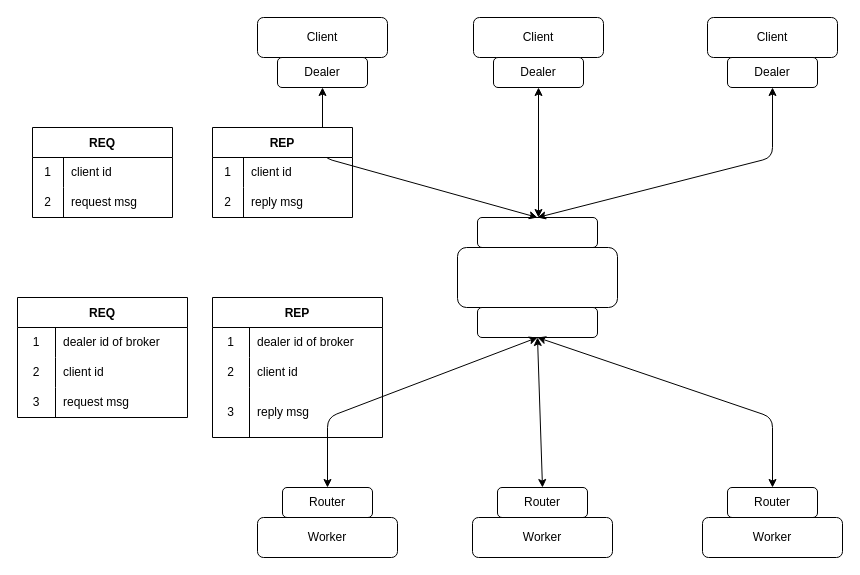
This 860x575 diagram has some shape labels left out. The centre of each missing label's shape, as x and y in pixels:
Dealer(bind): point (537, 322)
Router(bind): point (537, 232)
zmq::proxy: point (537, 277)
